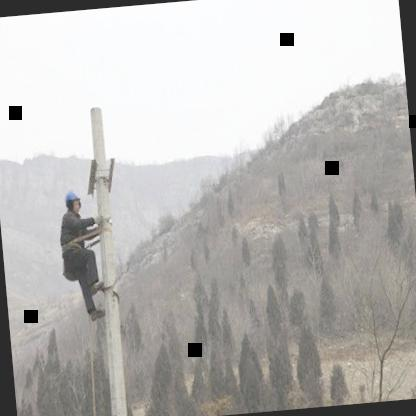helmet: (61, 186, 84, 218)
